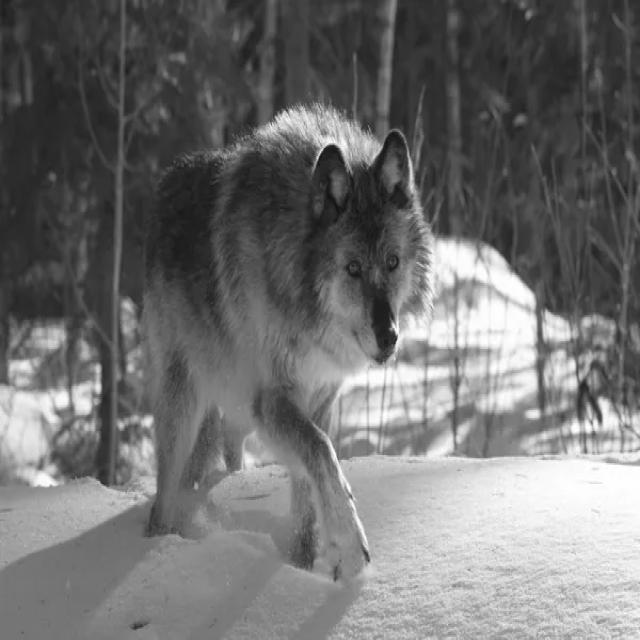Animal: (144, 106, 433, 581)
